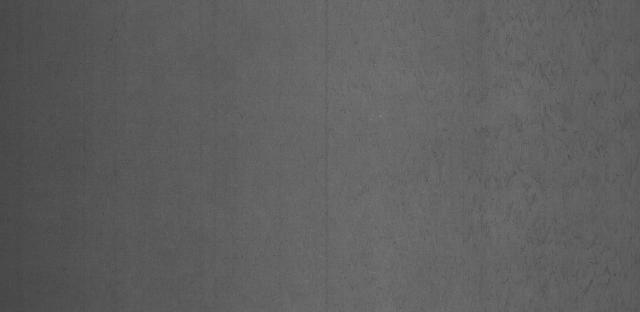silk_spot: (356, 14, 621, 293)
